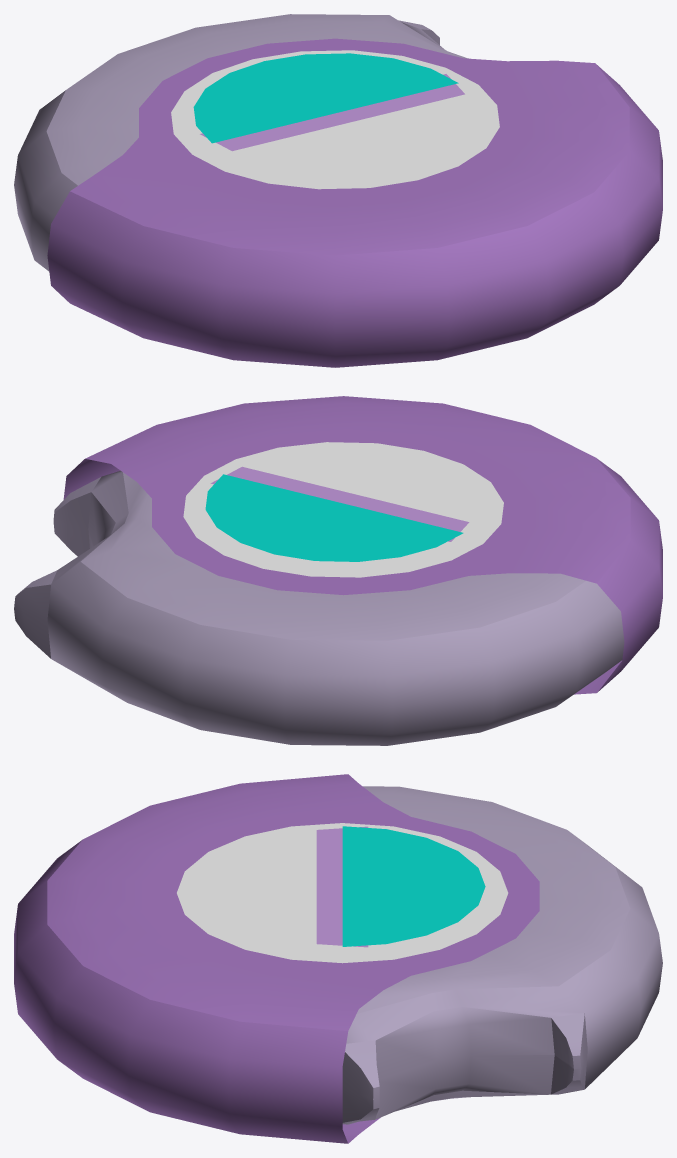
The model's file is advair.fbx.
The picture shows the model from 3 angles, top to bottom: view 1: azimuth 30°, elevation 25°; view 2: azimuth 150°, elevation 25°; view 3: azimuth 270°, elevation 25°; orthographic projection. The views are drawn at different scales.
Visible parts, largest first — view 1: pCylinder1, pCylinder2, pCylinder3, pCylinder4, pPlane1; view 2: pCylinder2, pCylinder1, pCylinder3, pCylinder4, pPlane1; view 3: pCylinder1, pCylinder2, pCylinder3, pCylinder4, pPlane1.
Boxes of the visible parts, box(x1,y1,x2,y2) form: pCylinder1: box(47, 38, 662, 367); pCylinder2: box(14, 14, 468, 271); pCylinder3: box(171, 50, 499, 189); pCylinder4: box(193, 53, 458, 143); pPlane1: box(200, 74, 464, 151); pCylinder2: box(14, 470, 624, 745); pCylinder1: box(63, 396, 662, 694); pCylinder3: box(183, 442, 503, 577); pCylinder4: box(205, 474, 463, 561); pPlane1: box(210, 466, 469, 541); pCylinder1: box(14, 774, 539, 1143); pCylinder2: box(342, 786, 662, 1124); pCylinder3: box(177, 823, 508, 963); pCylinder4: box(342, 826, 485, 946); pPlane1: box(316, 826, 368, 947).
Size of the model in its own units: 34.52 by 7.71 by 33.57.
